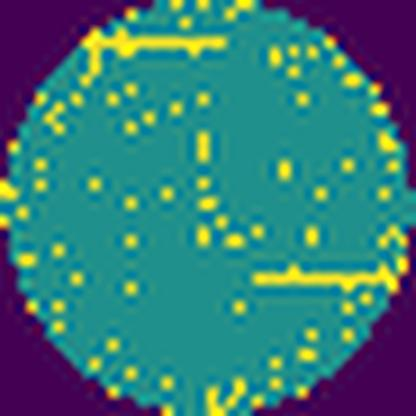Scratch: (76, 28, 232, 90), (247, 254, 398, 300)
